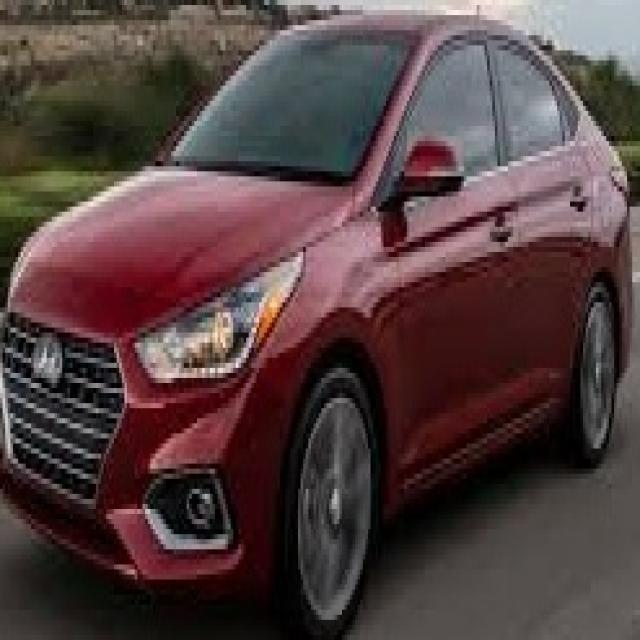maroon: (8, 10, 640, 613)
